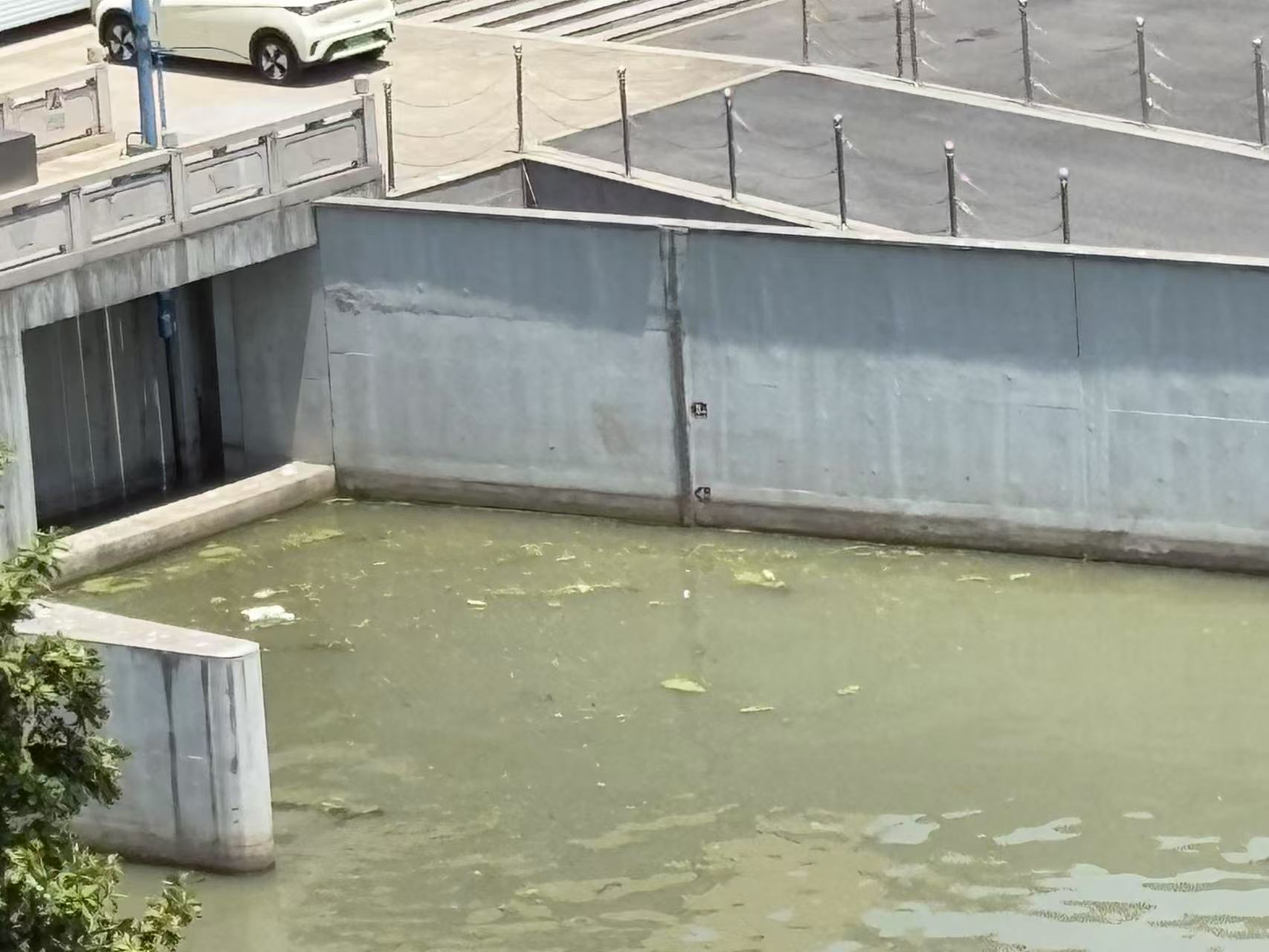Other: (80, 579, 150, 594), (734, 570, 782, 588), (660, 677, 708, 692), (286, 531, 341, 543), (552, 584, 593, 595), (198, 547, 241, 556), (523, 541, 541, 556), (740, 705, 772, 713), (836, 685, 857, 695), (490, 588, 523, 594)
Plastic wastes: (236, 605, 297, 623)
